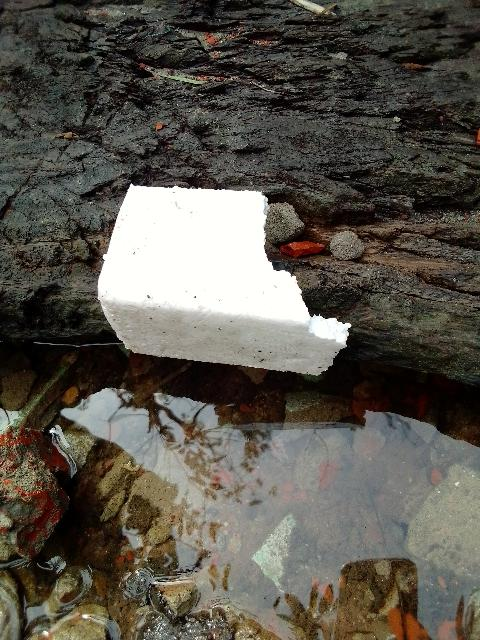cocksheet: (112, 190, 324, 374)
